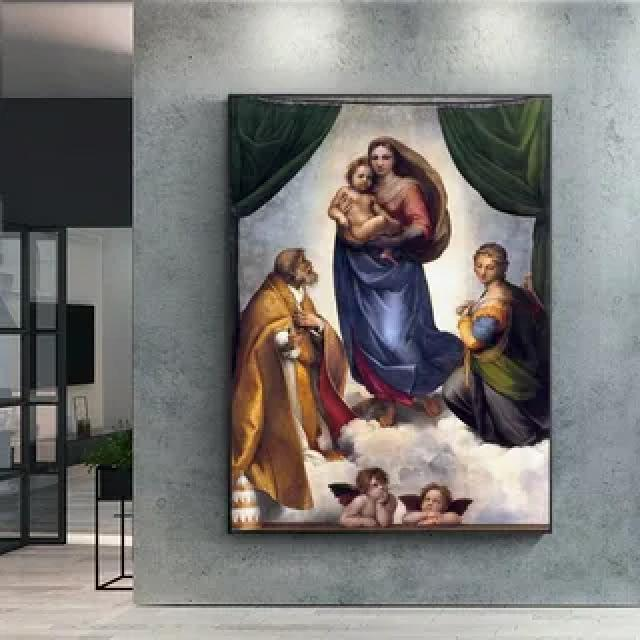Madonna of Loreto: (228, 95, 551, 533)
